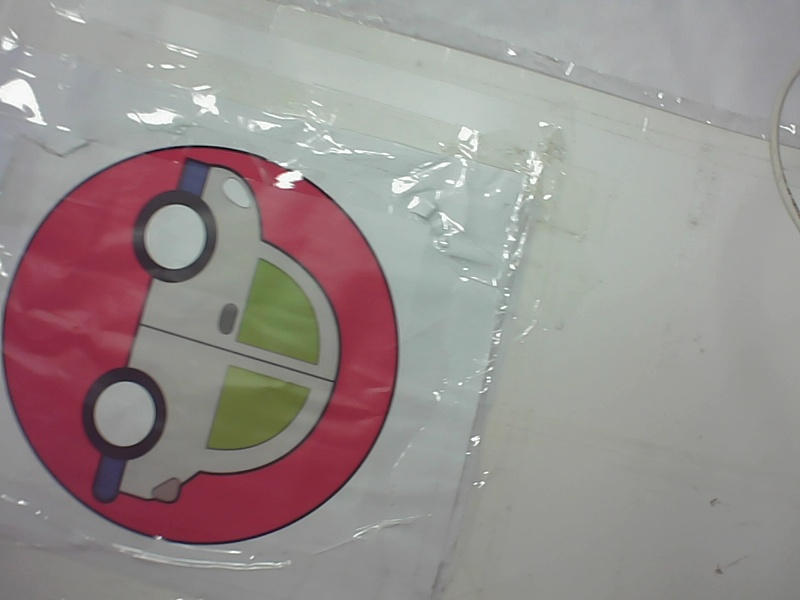areaC: (2, 137, 406, 558)
